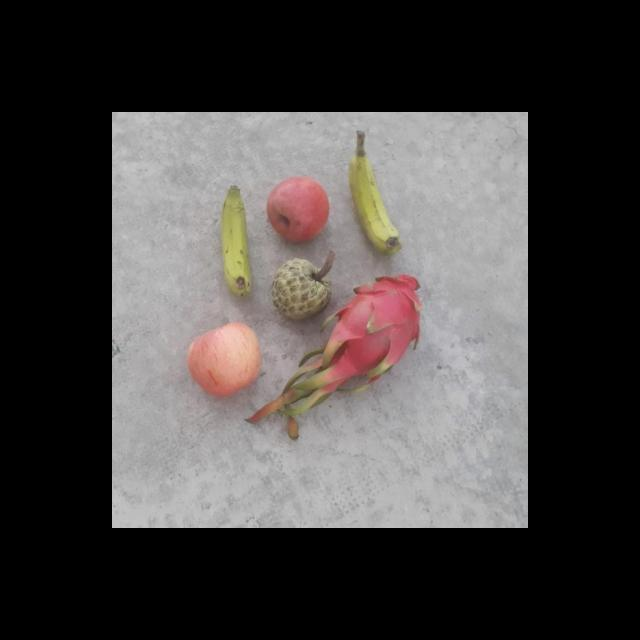Sakya fruit: (269, 258, 333, 326)
apple: (186, 318, 262, 396), (263, 174, 333, 243)
banana: (351, 151, 402, 255), (214, 182, 258, 301)
pitaya: (335, 272, 423, 382)
